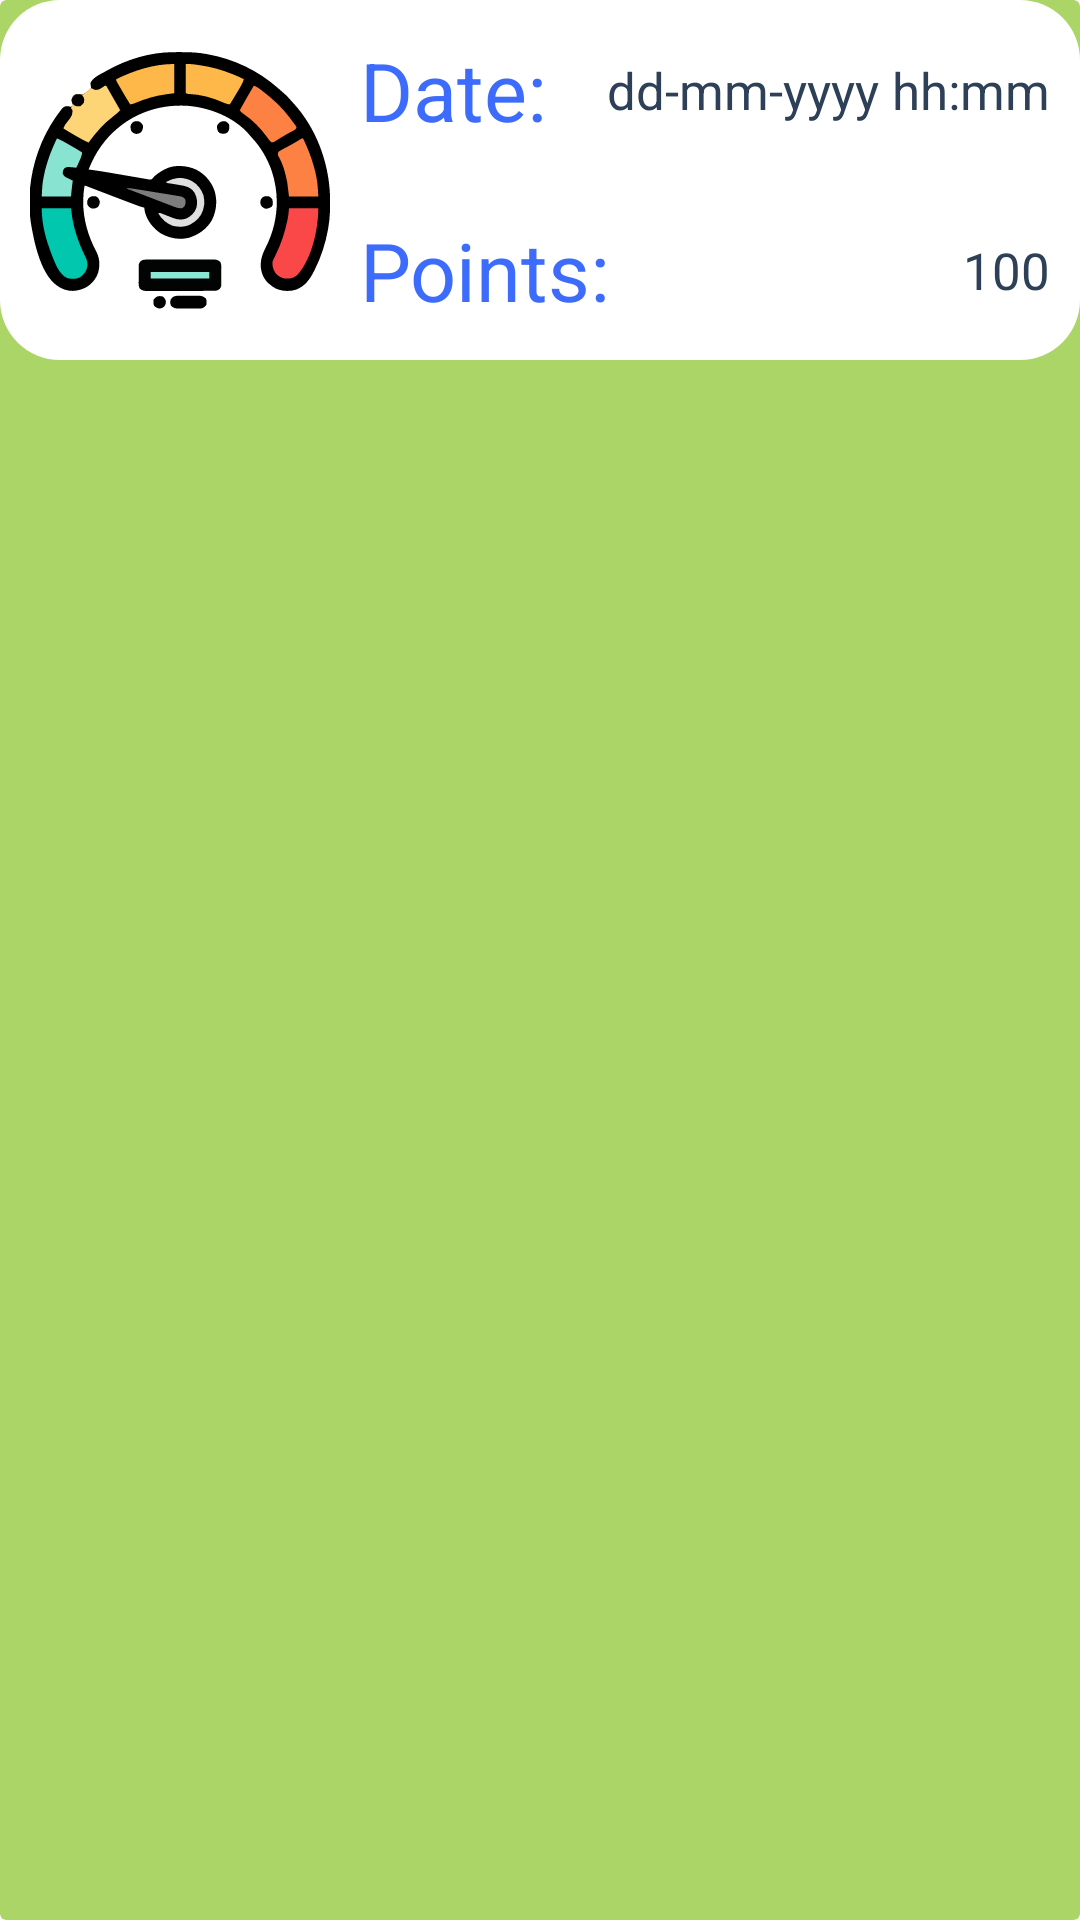

Locate icon controls on the screen. Image size 1080*1920, boxes as (x1, y1, x2, y2).
slow: (30, 52, 330, 309)
